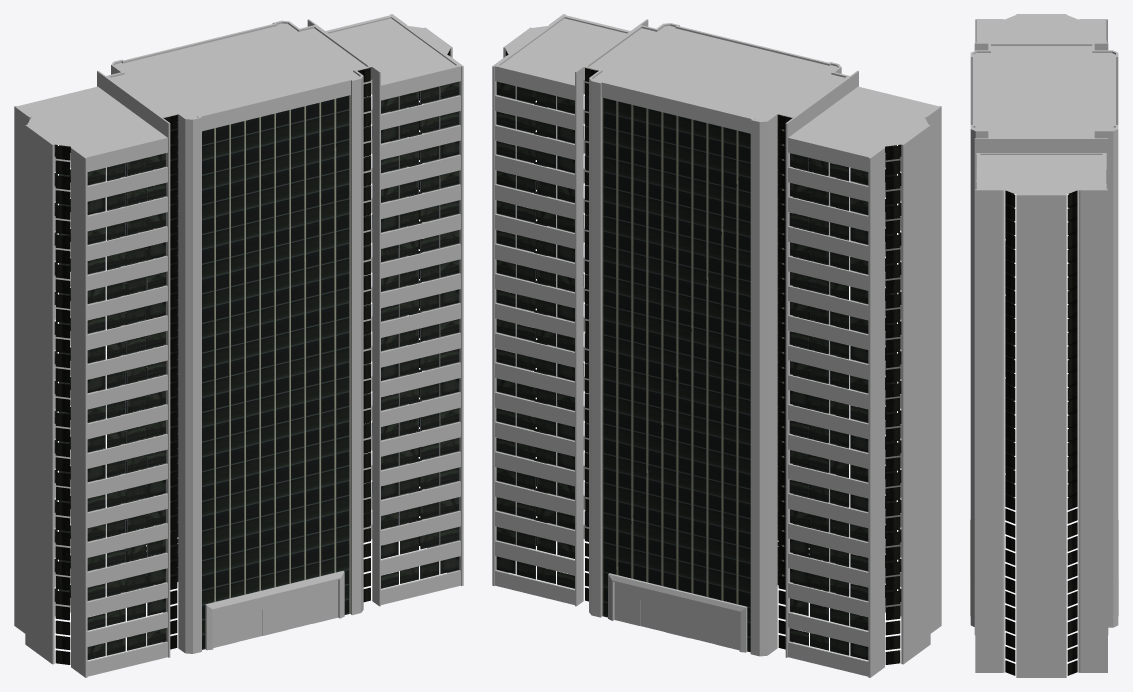
The picture shows the model from 3 angles, left to right: view 1: azimuth 30°, elevation 25°; view 2: azimuth 150°, elevation 25°; view 3: azimuth 270°, elevation 25°; orthographic projection. The views are drawn at different scales.
Visible parts, largest first — view 1: BC-055; view 2: BC-055; view 3: BC-055.
Boxes of the visible parts, x1,y1,x2,y2 form: BC-055: (14, 14, 463, 677); BC-055: (492, 14, 941, 677); BC-055: (970, 14, 1118, 677).
Size of what is drawn, in the model's own units: 42.32 by 54.01 by 14.63.
